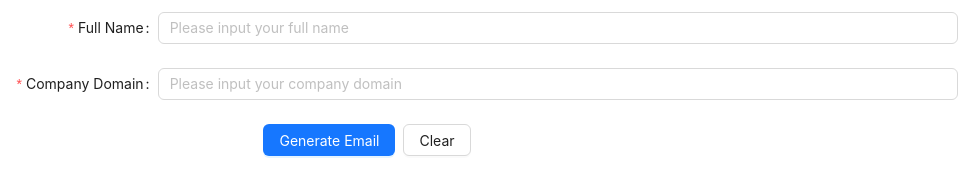
AppCard › should show validation error if tried to generate email without filling either one of the inputs
The width and height of the screenshot is (975, 195).
Click the button "Generate Email": [329, 140] box [263,124,395,156]
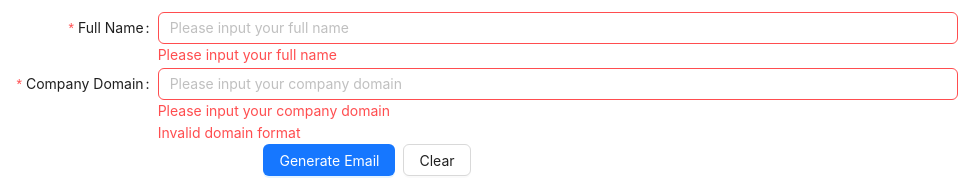
Now the text "Please input your company domain" is shown, box [158,102,390,119]
